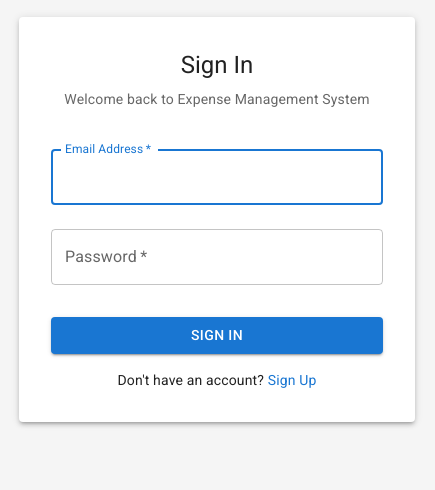
Test: LoginPage › should show validation errors for empty fields
Click the button "Sign In". click: click(217, 336)
box: 51,317 -> 383,354
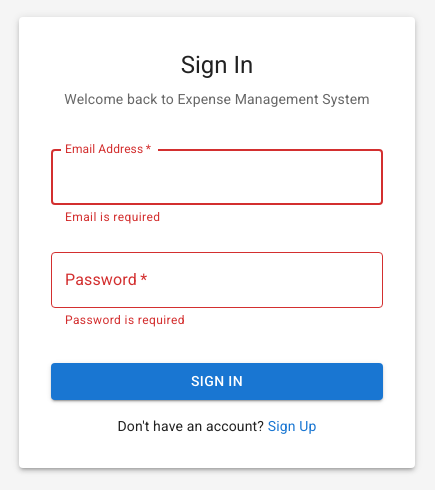
Expected: the text "Email is required" is shown, 65,210 -> 160,224
Expected: the text "Password is required" is shown, 65,313 -> 185,327
